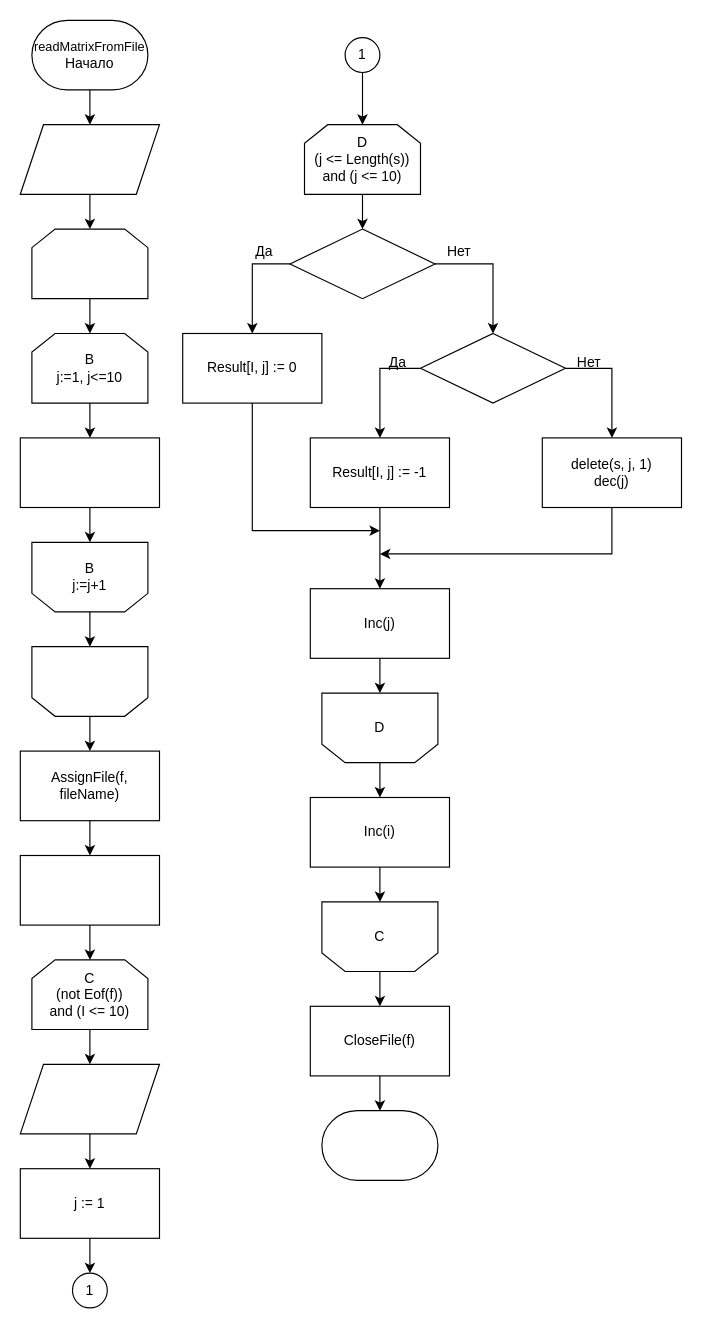
This 702x1328 diagram has some shape labels left out. Here are the shapes that lost their labels. From the top down, the box of each, then its label:
(19, 124, 160, 194): Ввод fileName
(31, 228, 148, 299): A i:=1, i<=10
(289, 228, 435, 299): ansilowercase( s[j]) = 'м'
(419, 332, 566, 403): ansilowercase( s[j]) = 'к'
(19, 437, 160, 507): Result:=0
(31, 646, 148, 716): A i:=i+1
(19, 854, 160, 925): Reset(f)
(19, 1063, 160, 1134): ReadLn(f, s);
(321, 1110, 438, 1180): Конец
